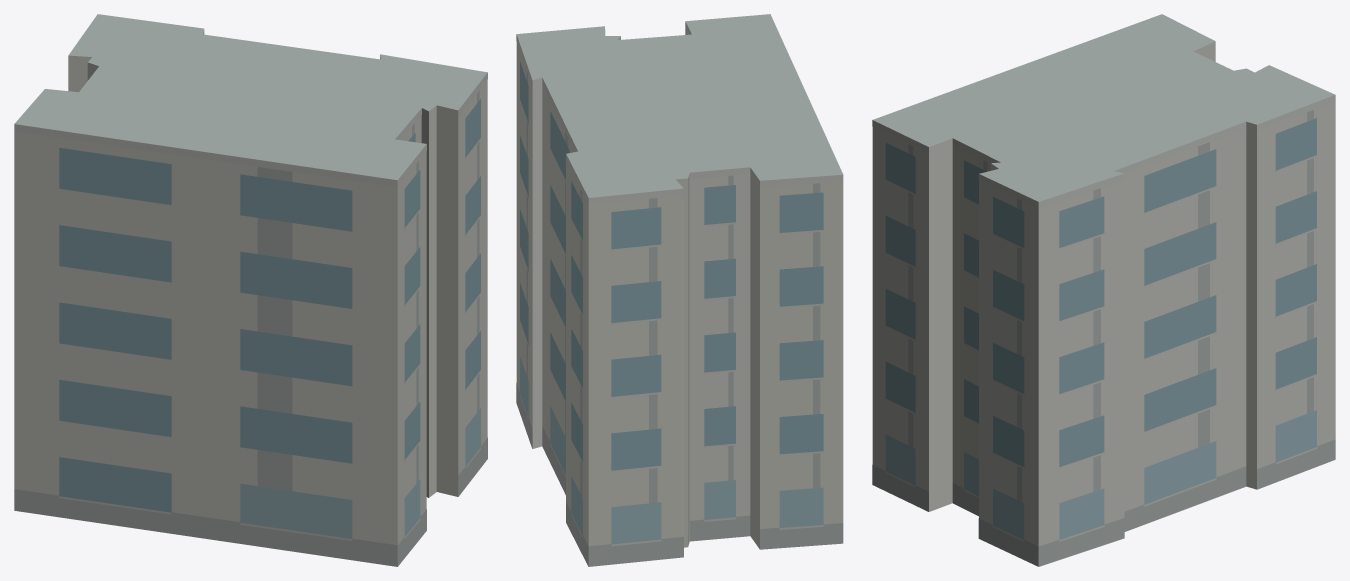
The model's file is survey-upis-32887828.glb.
3 renders of one model, left to right at view 1: azimuth 30°, elevation 25°; view 2: azimuth 150°, elevation 25°; view 3: azimuth 270°, elevation 25°, orthographic. The views are drawn at different scales.
Parts seen in each view (by area): view 1: survey-upis-32887828.tmp; view 2: survey-upis-32887828.tmp; view 3: survey-upis-32887828.tmp.
Boxes of the visible parts, x1,y1,x2,y2 form: survey-upis-32887828.tmp: [14, 14, 487, 566]; survey-upis-32887828.tmp: [516, 14, 843, 566]; survey-upis-32887828.tmp: [872, 14, 1335, 566].
Bounding box in the file's own units: 14.53 × 13.15 × 15.13.
